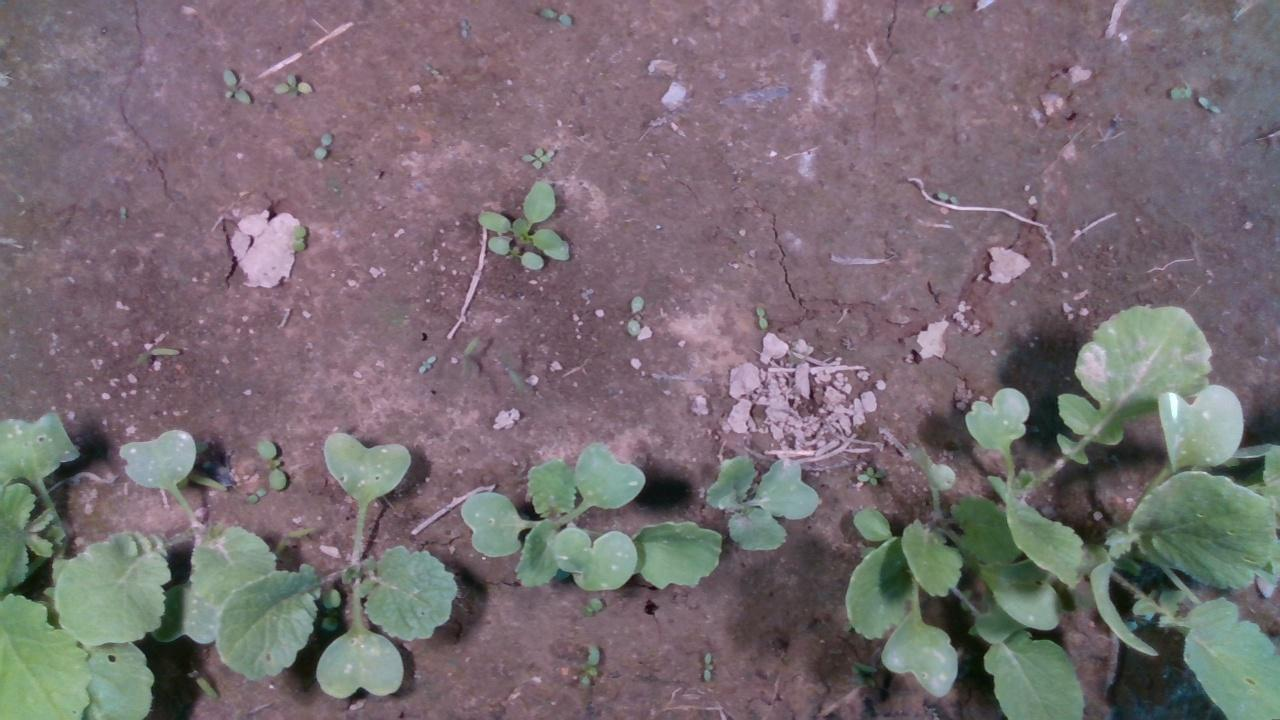weed: (256, 439, 287, 490), (127, 346, 182, 369), (220, 68, 252, 105), (577, 638, 599, 687), (272, 71, 314, 96), (625, 294, 644, 337), (534, 6, 574, 26), (519, 145, 550, 168), (856, 464, 886, 485), (1197, 93, 1225, 115), (313, 132, 332, 160), (291, 223, 307, 251), (244, 484, 266, 504), (581, 595, 601, 615), (702, 649, 713, 682), (754, 305, 768, 329), (1168, 84, 1192, 98), (934, 191, 957, 203), (459, 17, 472, 37)
